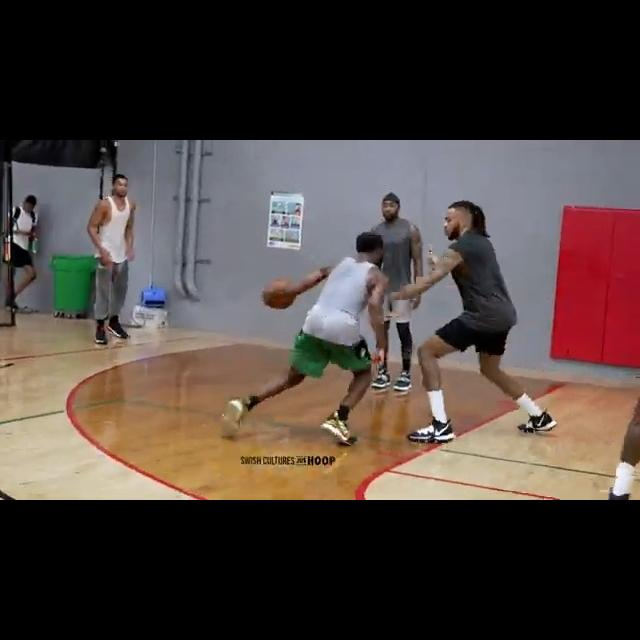basketball: (263, 277, 297, 311)
person: (391, 192, 556, 445), (219, 230, 387, 447), (371, 193, 423, 393), (86, 173, 135, 348), (1, 193, 41, 317)
